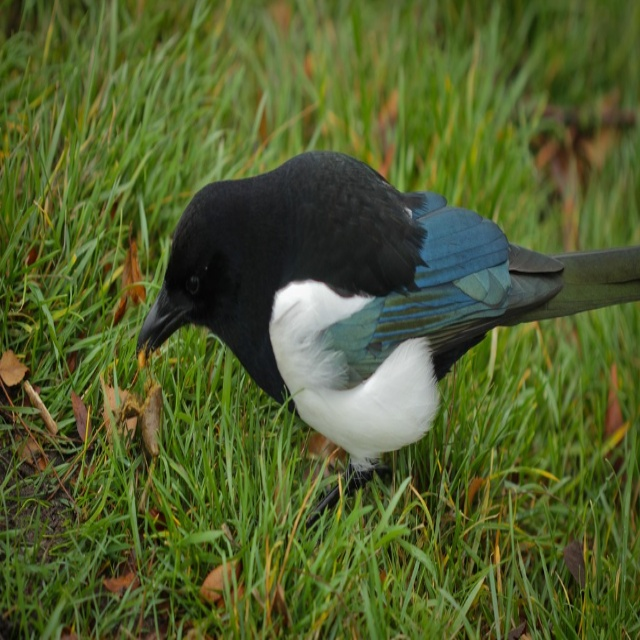Magpie: (138, 148, 640, 528)
